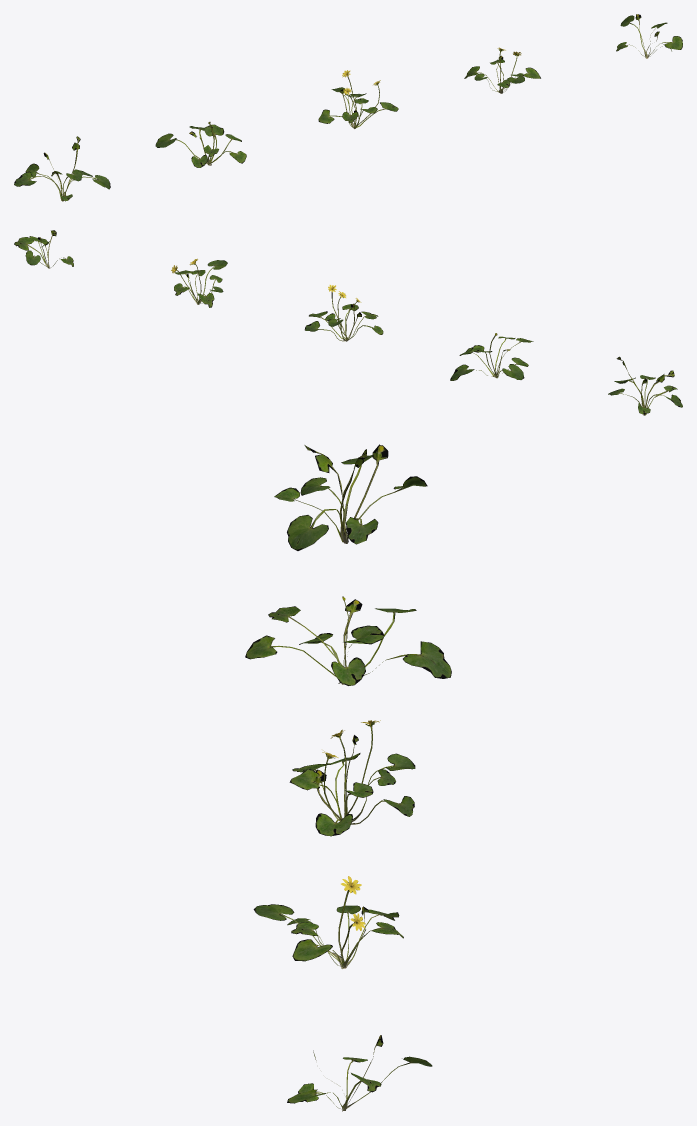
The model's file is celandine_01.glb.
3 renders of one model, top to bottom at view 1: azimuth 30°, elevation 25°; view 2: azimuth 150°, elevation 25°; view 3: azimuth 270°, elevation 25°, orthographic. The views are drawn at different scales.
Visible parts, largest first — view 1: celandine_01_b_LOD0, celandine_01_c_LOD0, celandine_01_a_LOD0, celandine_01_d_LOD0, celandine_01_e_LOD0; view 2: celandine_01_c_LOD0, celandine_01_b_LOD0, celandine_01_d_LOD0, celandine_01_a_LOD0, celandine_01_e_LOD0; view 3: celandine_01_b_LOD0, celandine_01_a_LOD0, celandine_01_c_LOD0, celandine_01_d_LOD0, celandine_01_e_LOD0.
Part boxes in pixels (x1=…): celandine_01_b_LOD0: x1=155, y1=122, x2=246, y2=167; celandine_01_c_LOD0: x1=318, y1=70, x2=398, y2=128; celandine_01_a_LOD0: x1=14, y1=136, x2=110, y2=201; celandine_01_d_LOD0: x1=464, y1=47, x2=540, y2=93; celandine_01_e_LOD0: x1=616, y1=14, x2=682, y2=58; celandine_01_c_LOD0: x1=304, y1=285, x2=383, y2=341; celandine_01_b_LOD0: x1=450, y1=333, x2=533, y2=380; celandine_01_d_LOD0: x1=171, y1=258, x2=227, y2=307; celandine_01_a_LOD0: x1=608, y1=356, x2=682, y2=415; celandine_01_e_LOD0: x1=14, y1=230, x2=73, y2=268; celandine_01_b_LOD0: x1=245, y1=596, x2=451, y2=685; celandine_01_a_LOD0: x1=274, y1=444, x2=427, y2=550; celandine_01_c_LOD0: x1=289, y1=720, x2=415, y2=836; celandine_01_d_LOD0: x1=253, y1=876, x2=403, y2=968; celandine_01_e_LOD0: x1=287, y1=1035, x2=432, y2=1111.
Size of the model in its own units: 2.24 by 0.1859 by 0.3067.
Materials: 1 (1 with a texture image).
